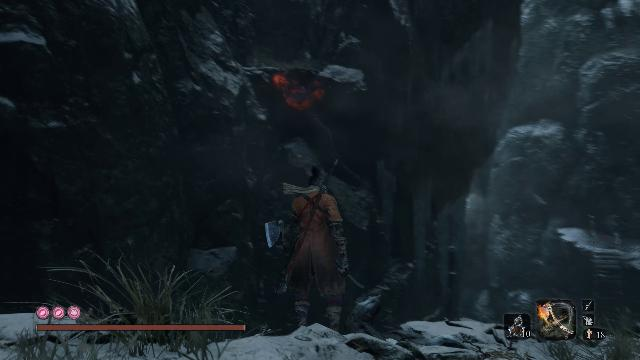sk: (261, 156, 351, 336)
